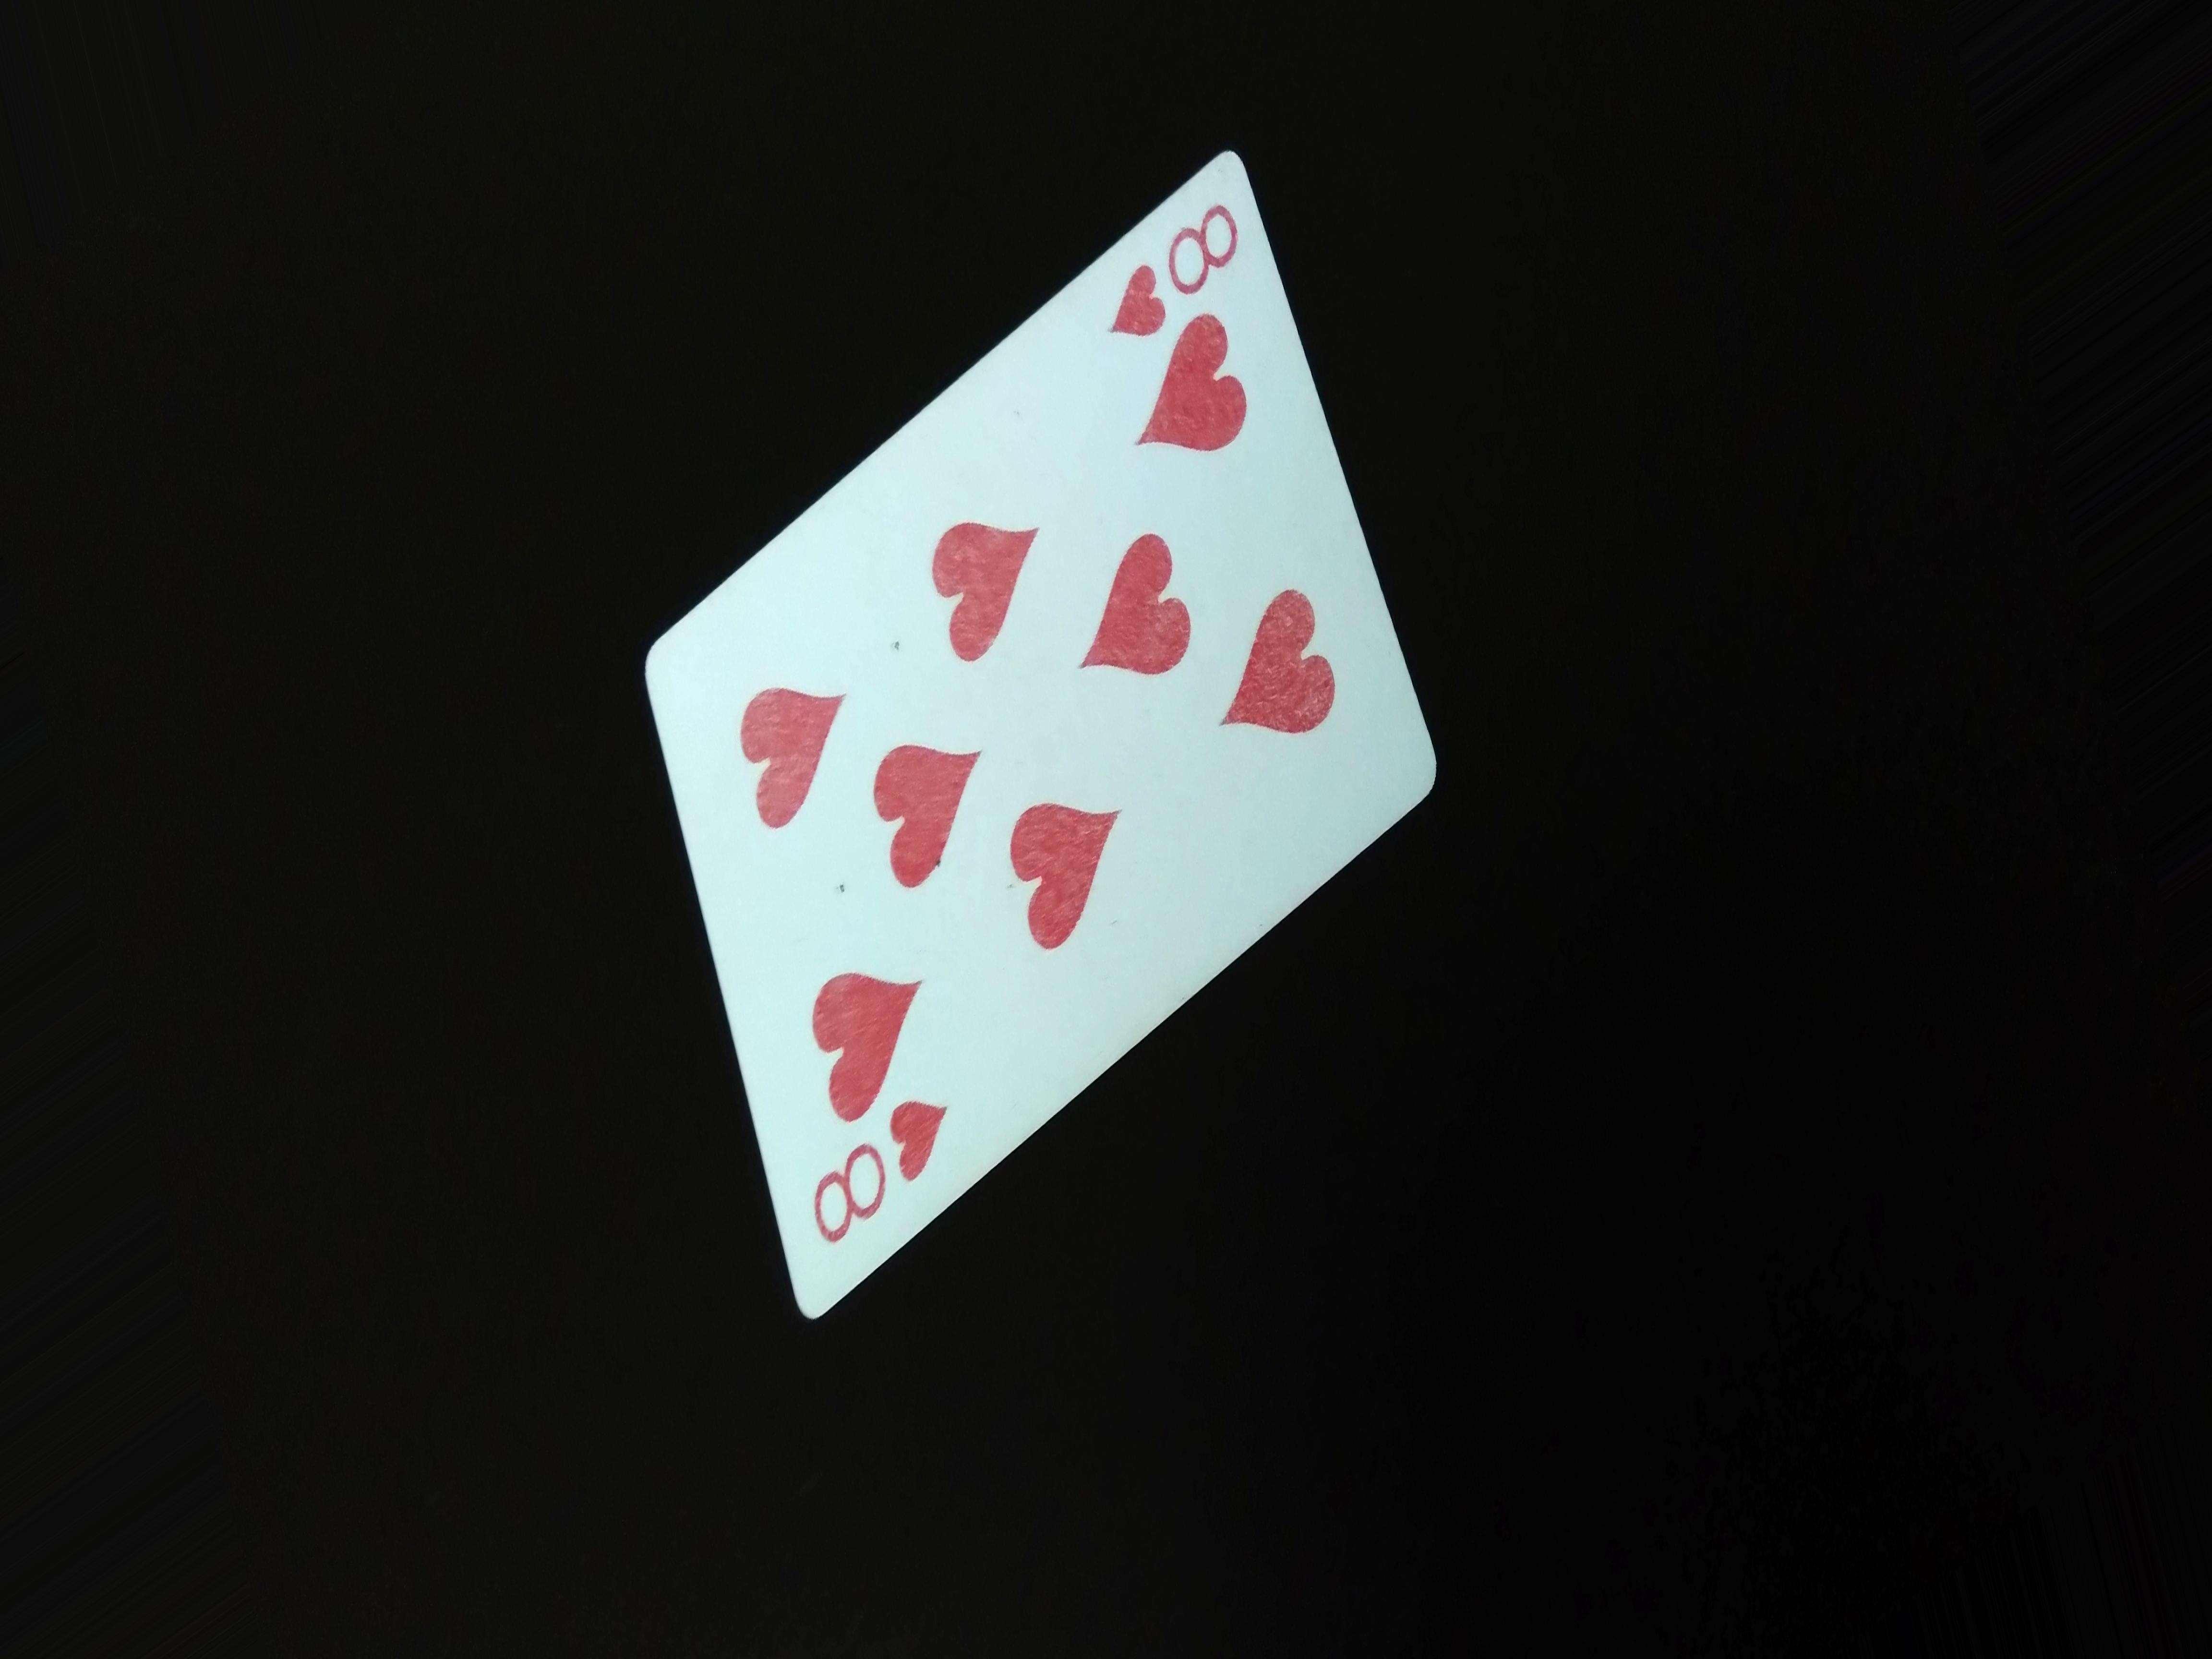8H: (784, 1101, 984, 1260)
